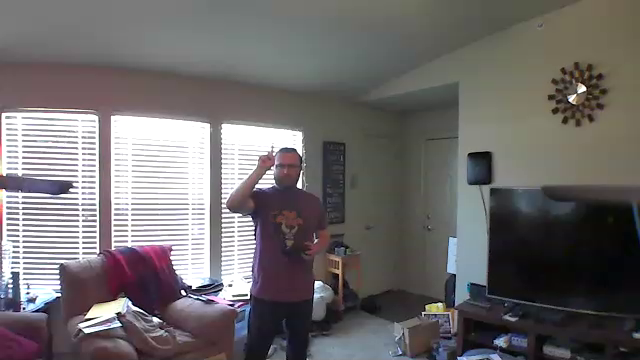up: (254, 141, 278, 172)
